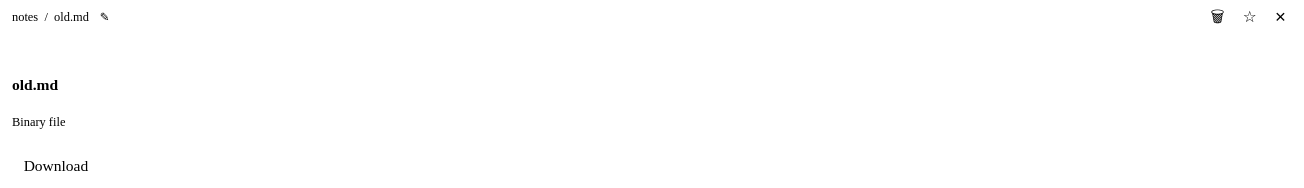
workspace generated mutation callers › keeps rename state after an HTTP failure
Click the button with class "file-rename-btn" at point(105, 16), box x1=96 y1=10 x2=113 y2=22
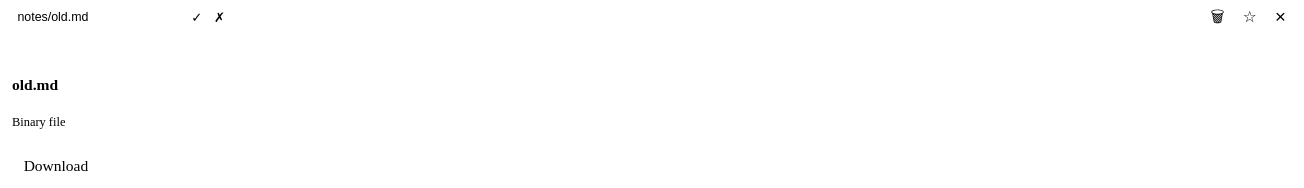
Replace the text in the field with class "file-rename-input" with "notes/new.md" at point(97, 17), box x1=12 y1=8 x2=183 y2=26
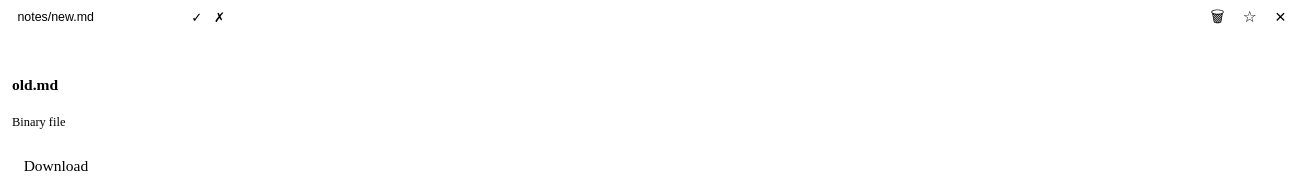
Click the button with class "file-rename-ok" at point(197, 17), box x1=188 y1=10 x2=206 y2=24
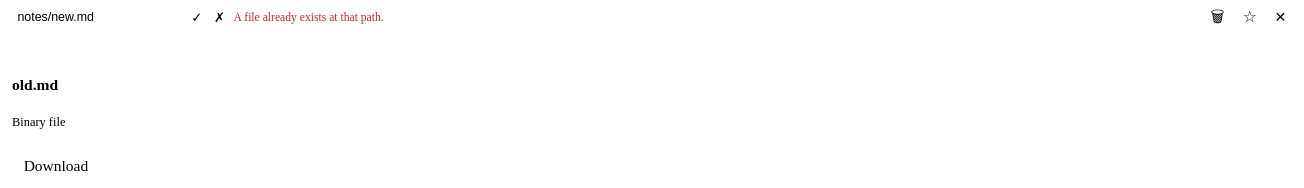
Check: the text "A file already exists at that path." is shown, box x1=234 y1=10 x2=384 y2=24
